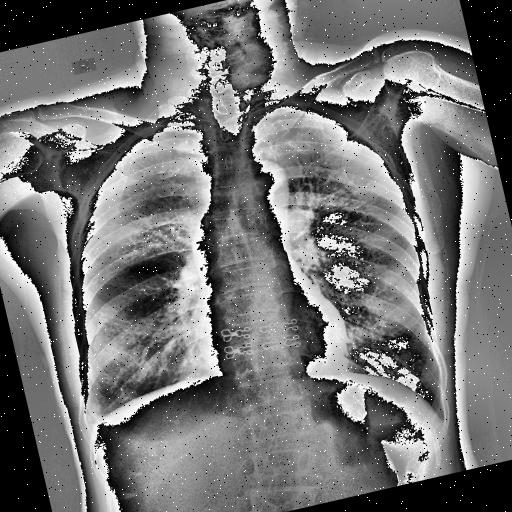0- Aortic enlargement: (237, 152, 292, 212)
10- Pleural effusion: (77, 391, 112, 438), (80, 406, 110, 446), (76, 412, 110, 447)
11- Pleural thickening: (77, 391, 112, 438), (80, 406, 110, 446), (76, 412, 110, 447)
9- Other lesion: (314, 69, 344, 91)
